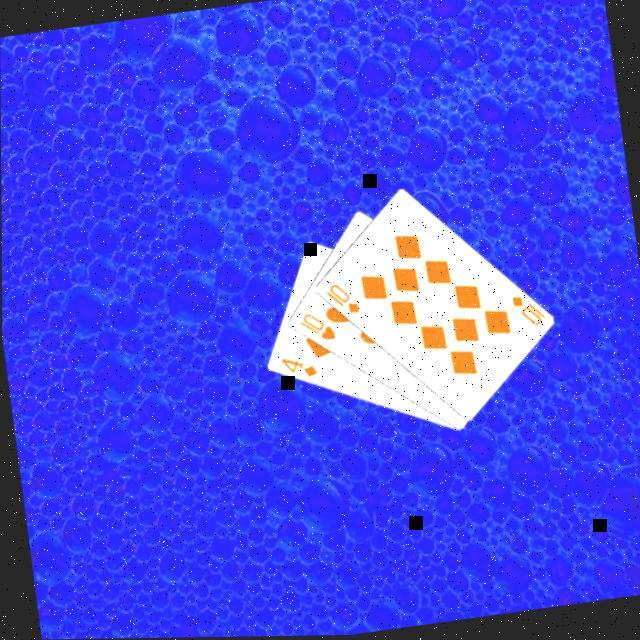10D: (505, 290, 547, 332), (320, 278, 360, 320)
10H: (293, 306, 337, 348)
4D: (274, 350, 318, 384)
